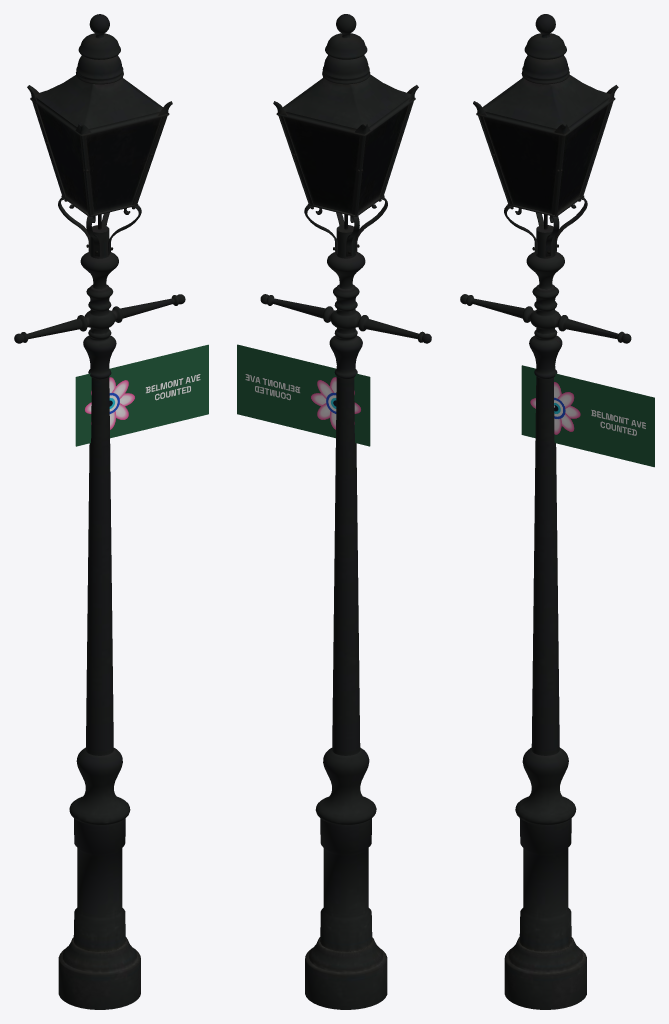
File: nyb_bronx_lamp.glb
The picture shows the model from 3 angles, left to right: view 1: azimuth 30°, elevation 25°; view 2: azimuth 150°, elevation 25°; view 3: azimuth 330°, elevation 25°; orthographic projection.
Parts seen in each view (by area): view 1: street_lamp_01, add_lbl_52622e815d.png; view 2: street_lamp_01, add_lbl_52622e815d.png; view 3: street_lamp_01, add_lbl_52622e815d.png.
Part boxes in pixels (box(x1,y1,x2,y2)): street_lamp_01: box(14, 14, 185, 1009); add_lbl_52622e815d.png: box(75, 344, 208, 446); street_lamp_01: box(260, 14, 431, 1009); add_lbl_52622e815d.png: box(237, 344, 370, 446); street_lamp_01: box(460, 14, 631, 1009); add_lbl_52622e815d.png: box(521, 365, 654, 467).
Bounding box in the file's own units: 0.8033 × 3.87 × 0.3865.
Materials: 4 (4 with a texture image).
